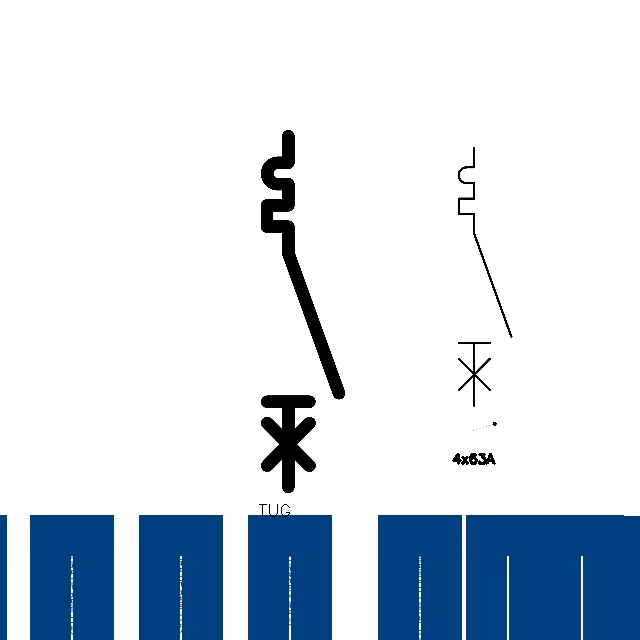interruptor_termomagnetico: (258, 127, 348, 496), (452, 141, 518, 412)
